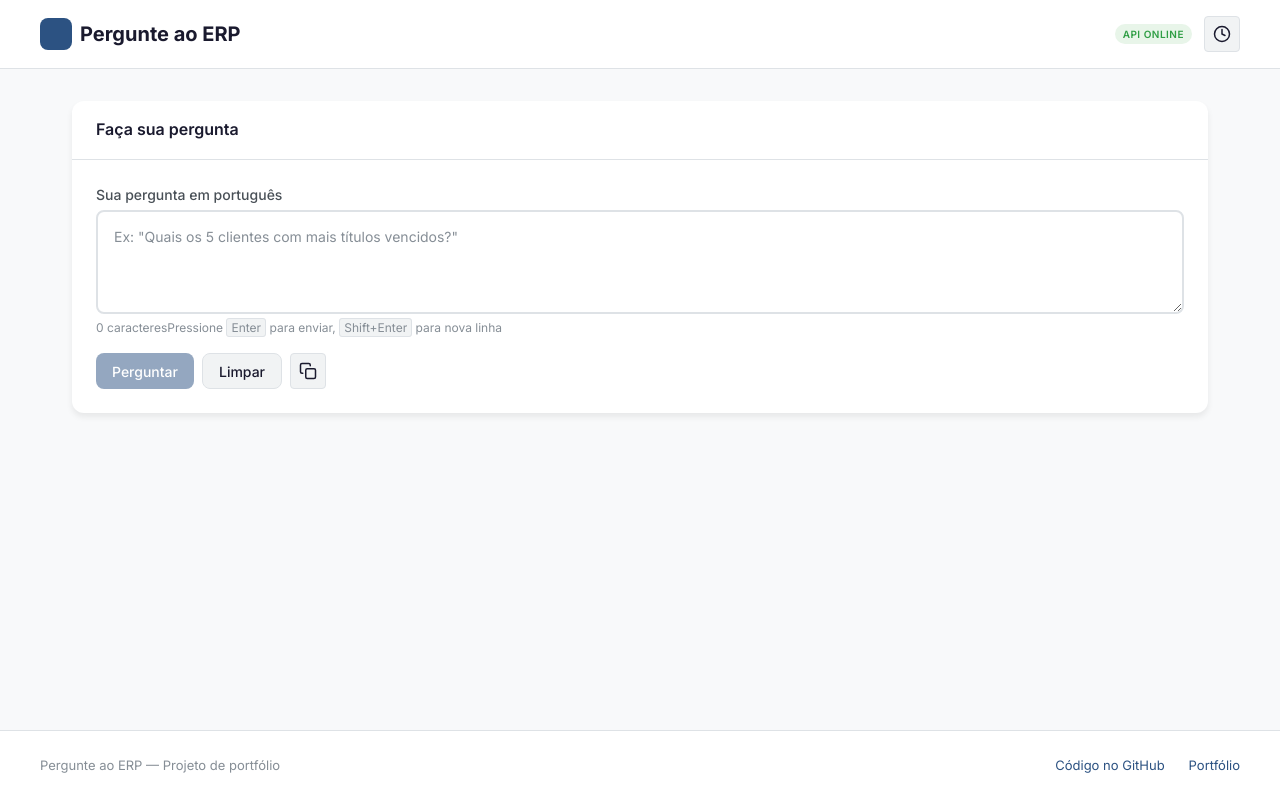
Test: App › shows error when API fails
Expected: the text "API Online" is shown, [1115,24,1192,44]
Type "test query" into the text box.
click(640, 262); type("test query")  # box [96,210,1184,314]
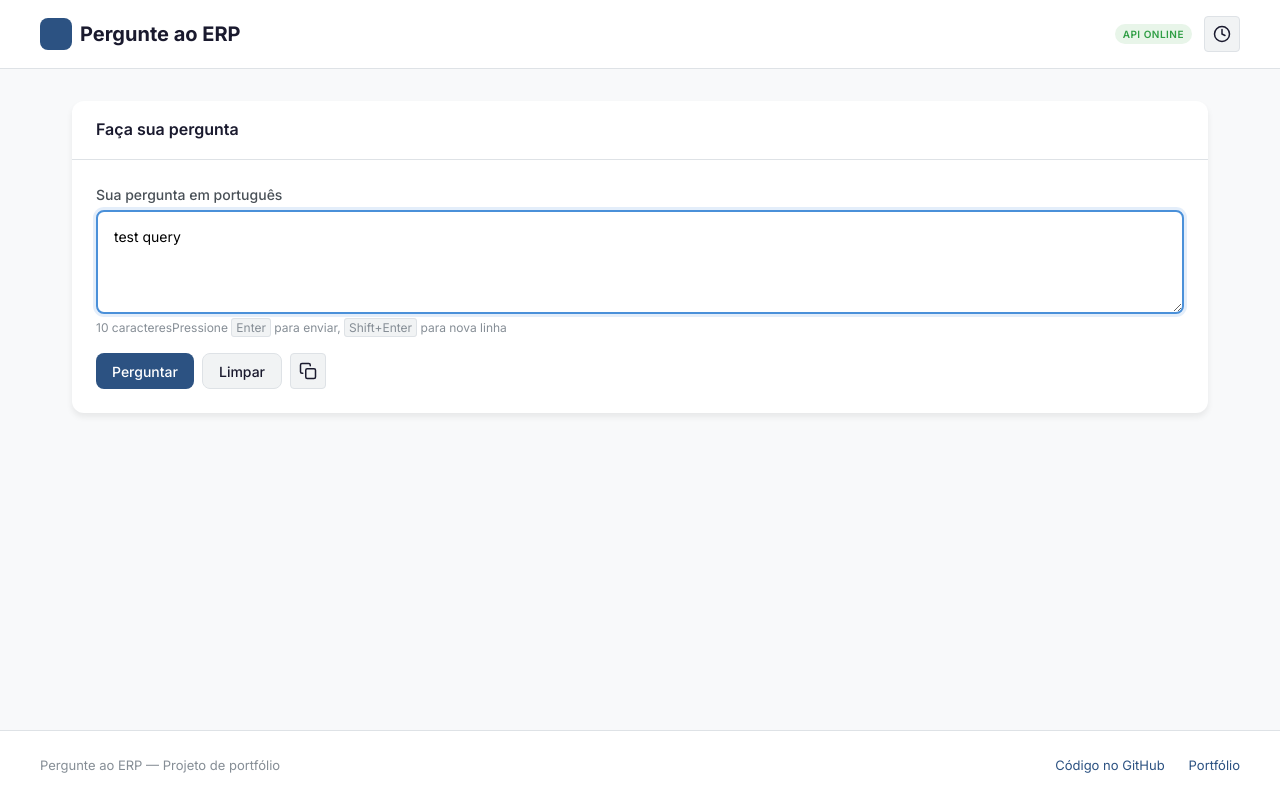
Click the button "Perguntar".
click(145, 371)  # box [96,353,194,389]
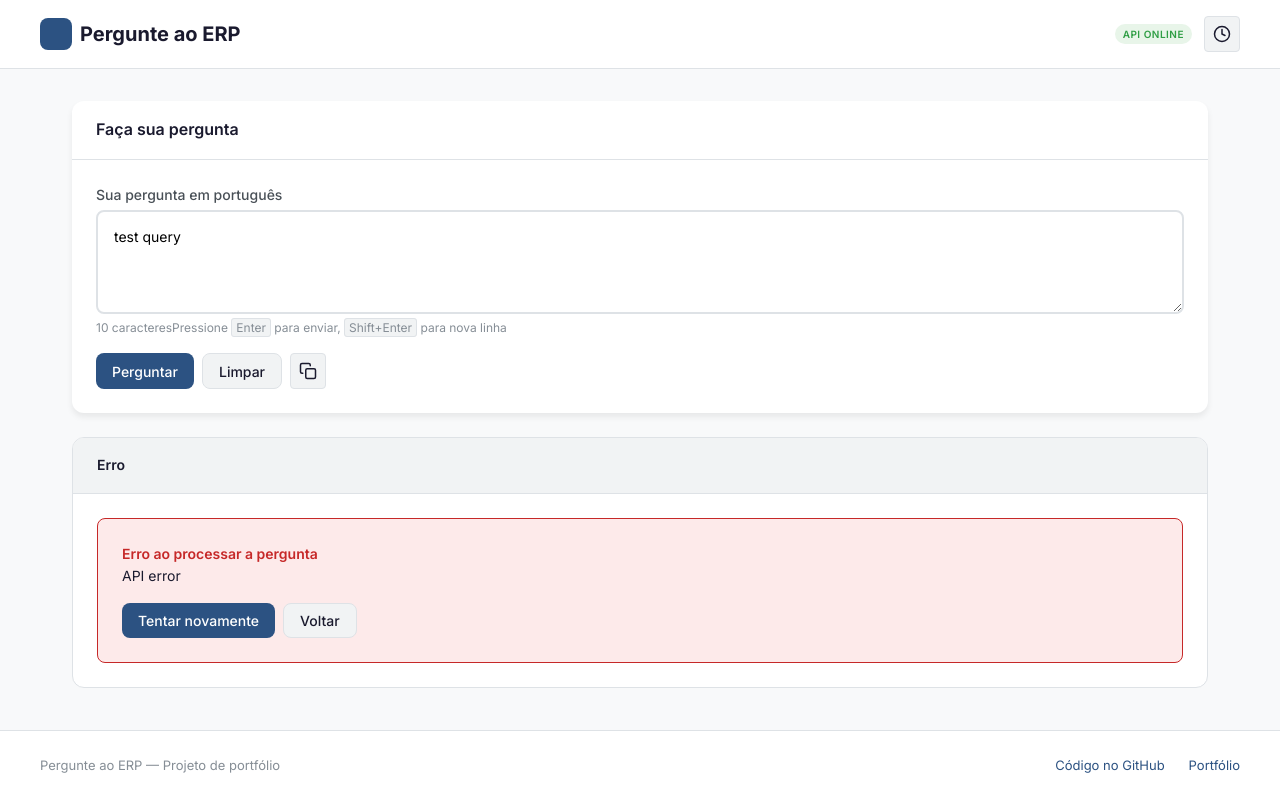
Now the text "Erro ao processar a pergunta" is shown, box [122,545,318,562]
